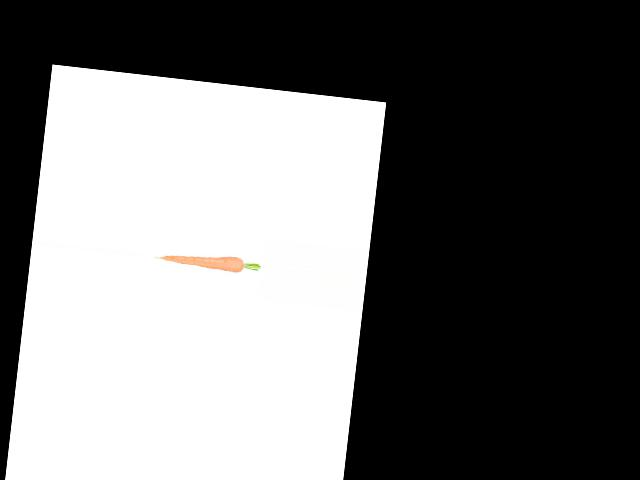carrot: (152, 234, 252, 281)
